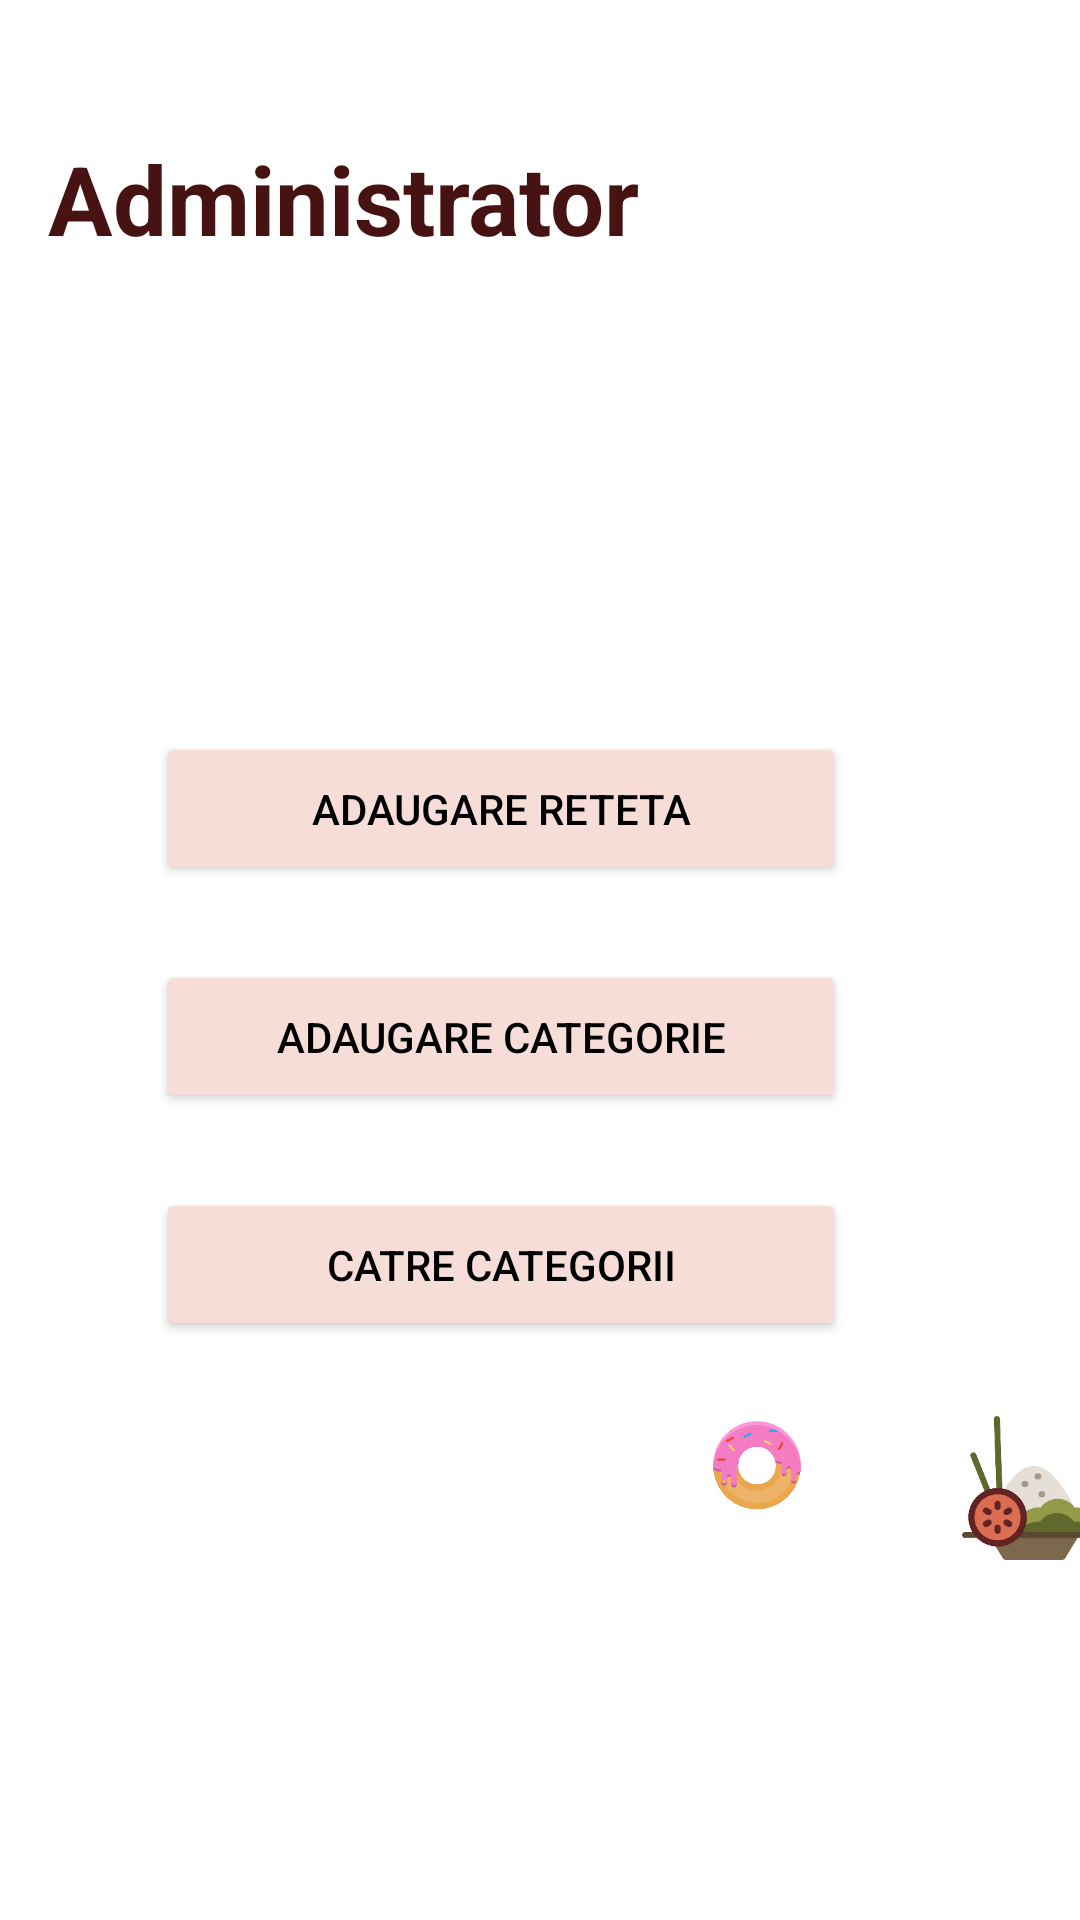

Where icons sit on this 1080px x 1920px app screen, as rect(x1, y1, x2, y2):
donuticon: rect(713, 1421, 801, 1510)
